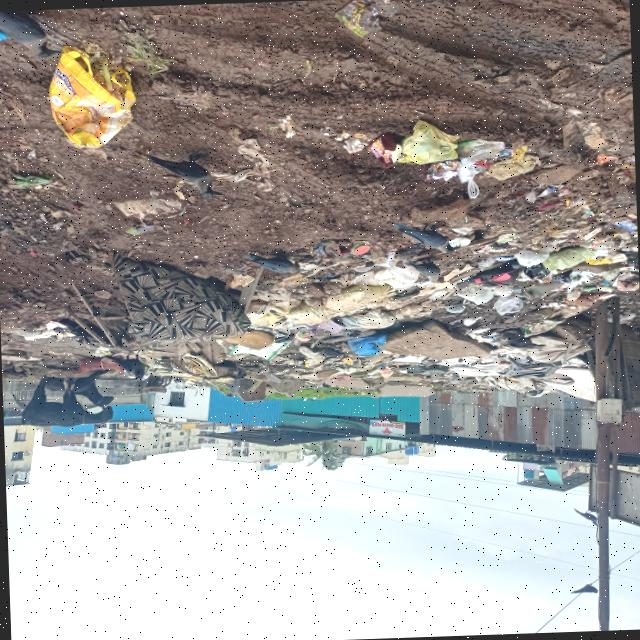garbage: (85, 240, 591, 411), (374, 120, 636, 300)
